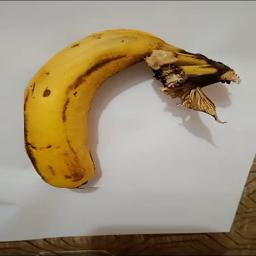Banana Semifresh: (25, 26, 241, 188)
